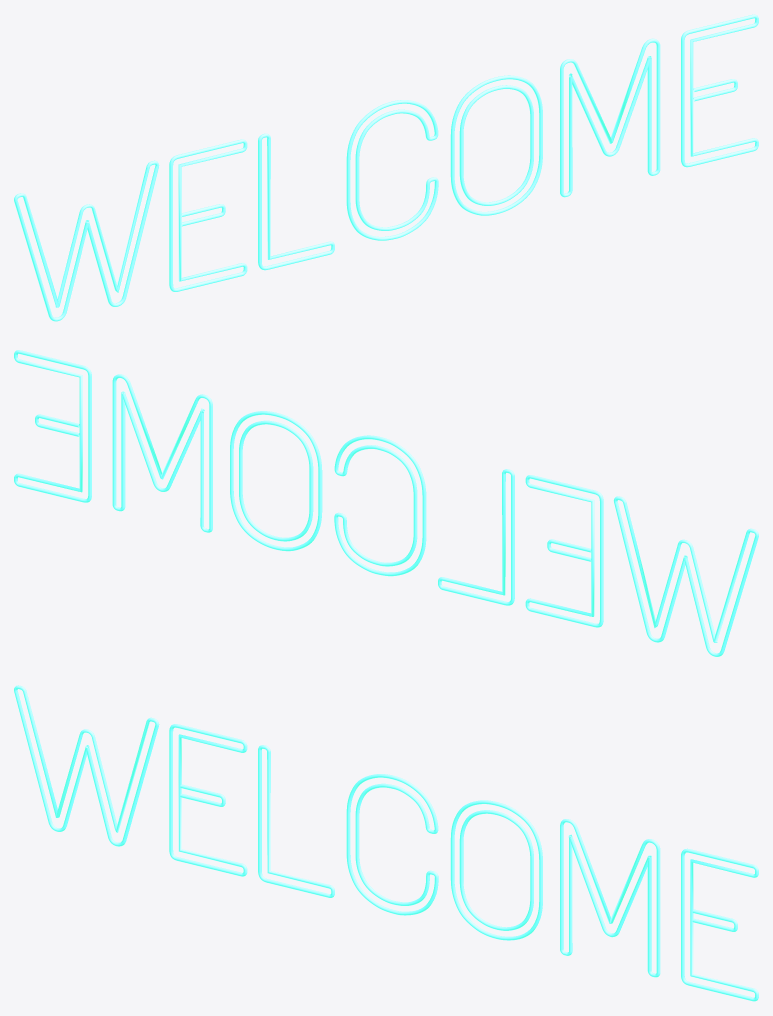
File: title.gltf
3 renders of one model, top to bottom at view 1: azimuth 30°, elevation 25°; view 2: azimuth 150°, elevation 25°; view 3: azimuth 330°, elevation 25°, orthographic.
Visible parts, largest first — view 1: Text; view 2: Text; view 3: Text.
Part boxes in pixels (x1=…): Text: x1=14, y1=14, x2=758, y2=321; Text: x1=14, y1=350, x2=758, y2=656; Text: x1=14, y1=685, x2=758, y2=1001.
Bounding box in the file's own units: 3.36 × 0.594 × 0.0173.
